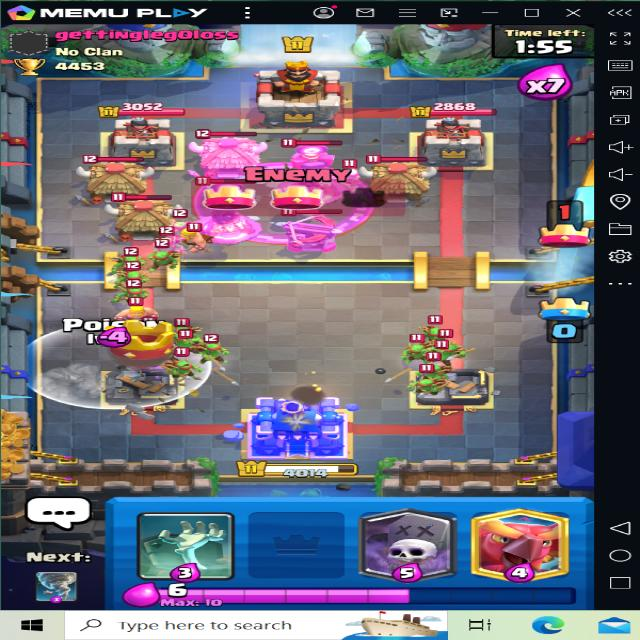Barbarian: (113, 300, 165, 329), (172, 223, 216, 249)
Goblinhut: (102, 188, 185, 240), (187, 126, 266, 178), (363, 152, 434, 204), (80, 155, 156, 201)
Infernotower: (188, 172, 274, 250), (278, 136, 342, 201)
Rage: (200, 159, 372, 240)
Speargoblin: (414, 350, 451, 385), (167, 321, 204, 349), (193, 335, 231, 362), (411, 369, 443, 400), (169, 354, 201, 382), (419, 317, 450, 345), (402, 341, 436, 364), (118, 279, 144, 305), (143, 246, 173, 268), (440, 334, 469, 356), (123, 268, 152, 288), (120, 242, 144, 266)
Xbow: (269, 200, 348, 251)
